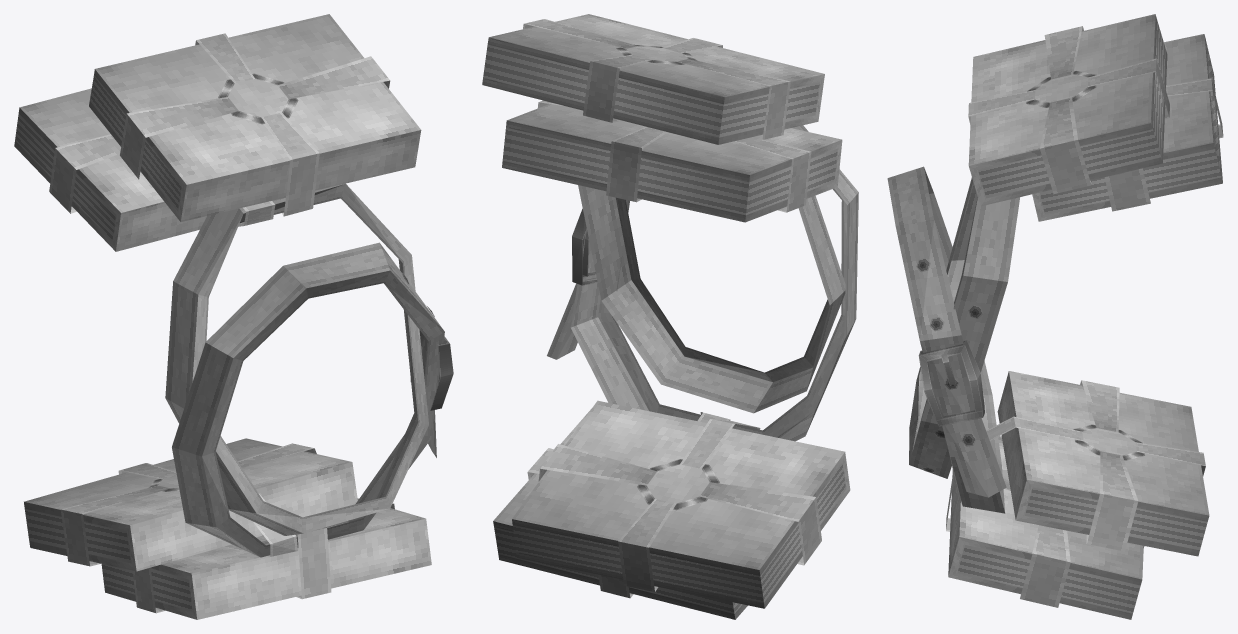
File: options409.obj
3 views of the same model, side by side, from view 1: azimuth 30°, elevation 25°; view 2: azimuth 150°, elevation 25°; view 3: azimuth 270°, elevation 25° (orthographic). The views are drawn at different scales.
Visible parts, largest first — view 1: options409; view 2: options409; view 3: options409.
Boxes of the visible parts, x1,y1,x2,y2 form: options409: (14, 14, 453, 619); options409: (482, 14, 858, 619); options409: (887, 14, 1223, 619).
Size of the model in its own units: 0.585 by 0.9632 by 0.5825.
1 material, 1 textured.
